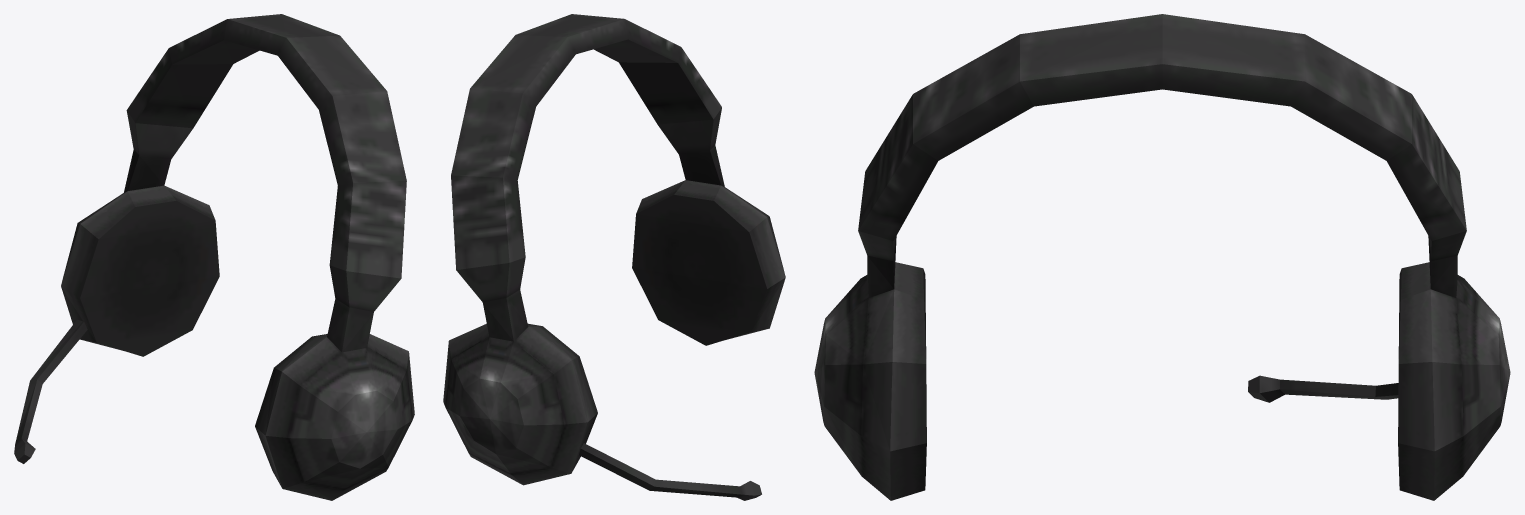
File: Wolf_headphoneM.obj
3 views of the same model, side by side, from view 1: azimuth 30°, elevation 25°; view 2: azimuth 150°, elevation 25°; view 3: azimuth 270°, elevation 25° (orthographic). The views are drawn at different scales.
Parts seen in each view (by area): view 1: Wolf_headphoneM_tri; view 2: Wolf_headphoneM_tri; view 3: Wolf_headphoneM_tri.
Boxes of the visible parts, <box> form: Wolf_headphoneM_tri: <box>14,14,414,500</box>; Wolf_headphoneM_tri: <box>443,14,785,500</box>; Wolf_headphoneM_tri: <box>814,14,1510,500</box>.
Bounding box in the file's own units: 0.2009 × 0.2633 × 0.3099.
Materials: 1 (1 with a texture image).
